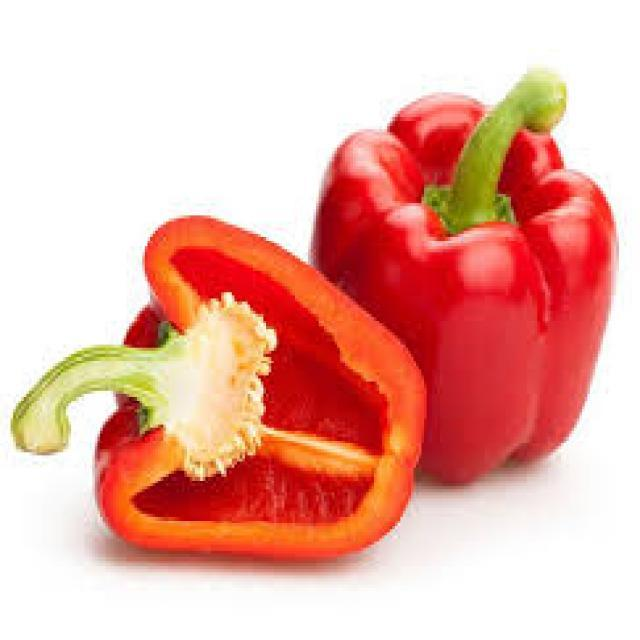Pepper: (9, 216, 428, 563), (309, 70, 618, 488)
